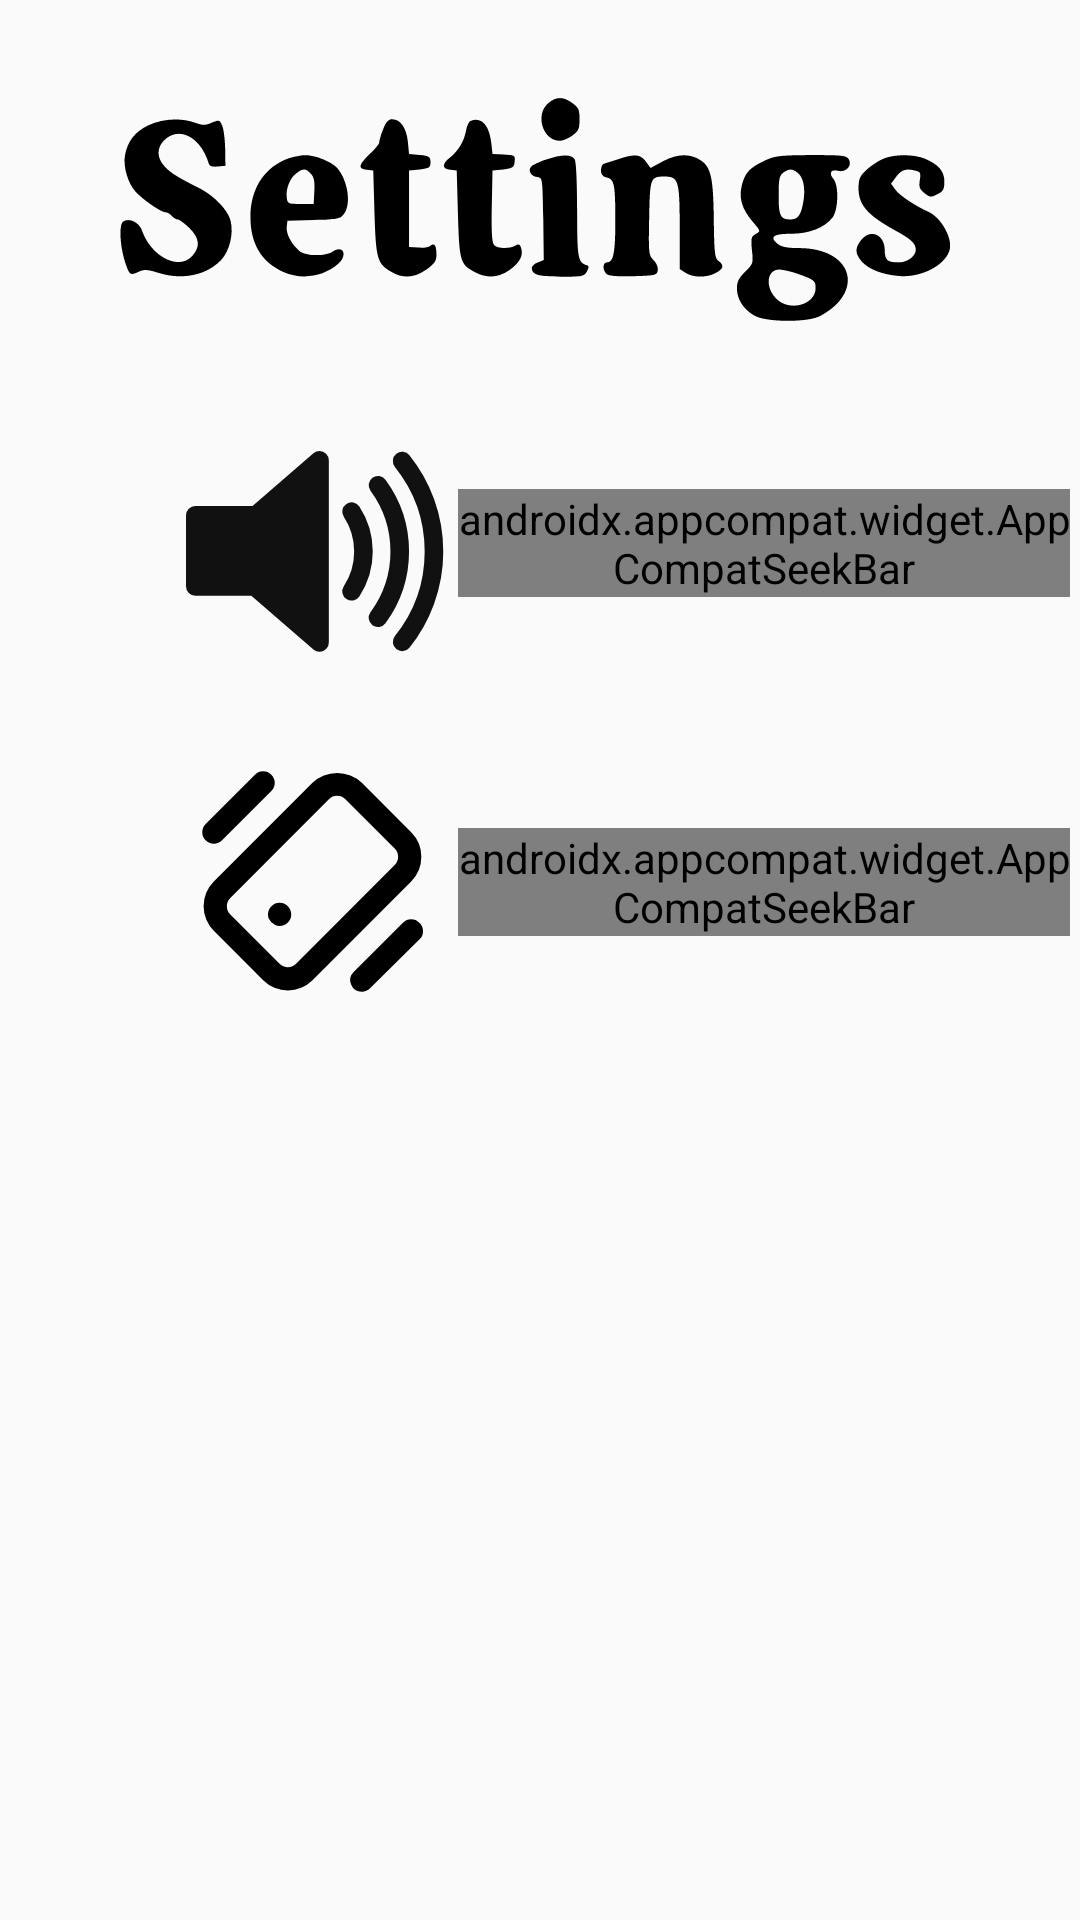

Icon click points for this 1080*1920 phone screenshot, format [x,y]:
mobile vibrate: [312,881]
speaker: [315,551]
